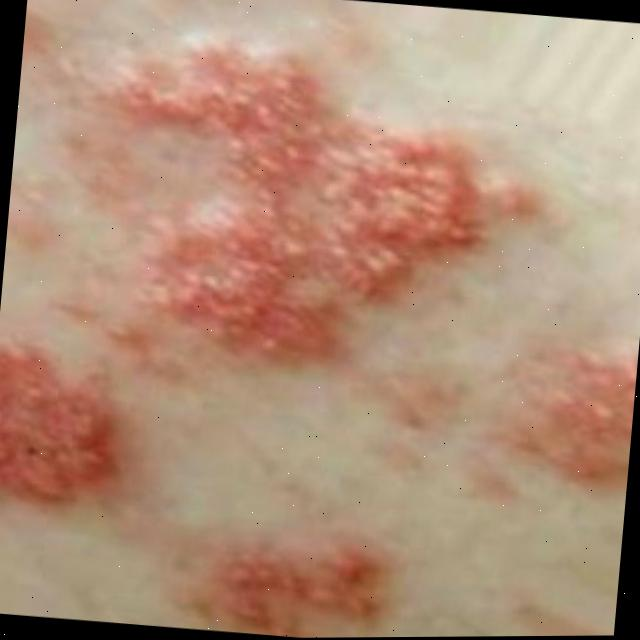Shingles: (0, 22, 640, 640)
